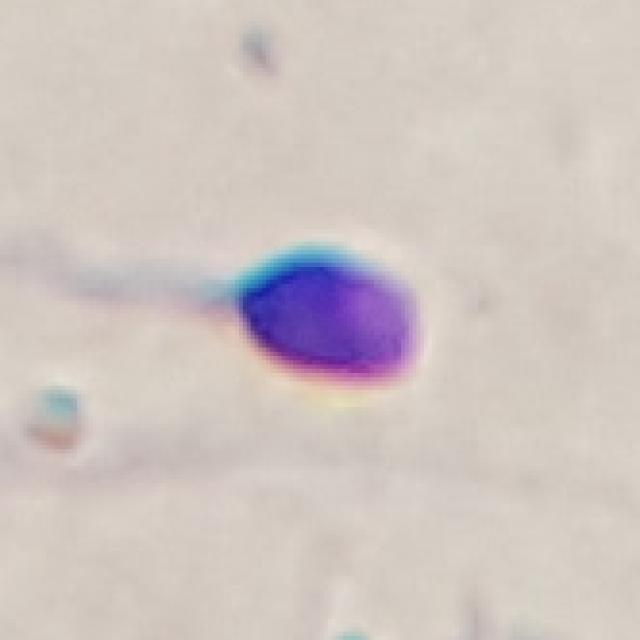normal sperm: (148, 242, 423, 390)
